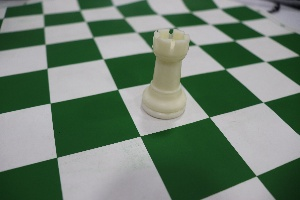white_rook: (136, 16, 192, 125)
